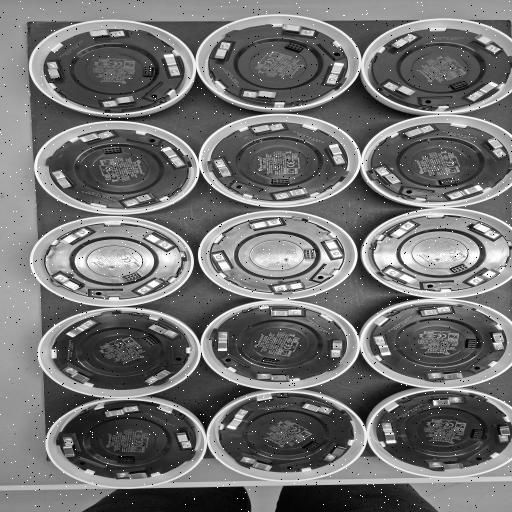konnektor: (280, 42, 306, 54), (299, 440, 323, 451), (300, 248, 318, 262), (101, 146, 129, 155), (114, 455, 136, 466), (258, 357, 282, 367), (447, 264, 471, 274), (141, 64, 158, 78), (467, 429, 485, 442), (120, 272, 143, 282), (436, 176, 459, 186), (270, 176, 293, 186), (450, 79, 469, 91), (464, 338, 478, 351), (142, 336, 160, 346)
yaysiz: (155, 143, 188, 170), (379, 78, 417, 100), (62, 318, 100, 340), (466, 80, 501, 103), (382, 266, 422, 286), (56, 227, 93, 248), (372, 166, 407, 188), (51, 271, 86, 293), (222, 408, 254, 432), (462, 221, 502, 240), (320, 60, 347, 88), (320, 140, 348, 167), (421, 456, 471, 471), (481, 135, 509, 161), (208, 156, 238, 180), (398, 123, 438, 141), (212, 250, 242, 274), (238, 455, 278, 473), (118, 191, 160, 208), (446, 184, 490, 200), (50, 168, 78, 193), (269, 187, 318, 201), (385, 32, 421, 51), (60, 366, 96, 385), (468, 266, 502, 286), (377, 420, 403, 446), (210, 40, 238, 64), (242, 217, 290, 231), (387, 220, 417, 242), (245, 122, 291, 136), (75, 129, 117, 144), (97, 404, 142, 418), (162, 52, 186, 78), (320, 238, 346, 262), (370, 334, 396, 358), (238, 88, 282, 102), (252, 370, 296, 384), (324, 336, 348, 361), (57, 434, 81, 459), (276, 24, 318, 38), (112, 469, 154, 483), (146, 322, 182, 338), (144, 366, 176, 384), (211, 328, 234, 353), (422, 369, 466, 382), (137, 276, 165, 296), (46, 59, 69, 83), (262, 307, 308, 319), (98, 96, 140, 109), (273, 280, 312, 294), (300, 401, 339, 415), (85, 30, 131, 41), (173, 428, 196, 450), (426, 396, 468, 408), (324, 443, 350, 462), (415, 305, 456, 317), (487, 329, 508, 352), (497, 421, 512, 445)
